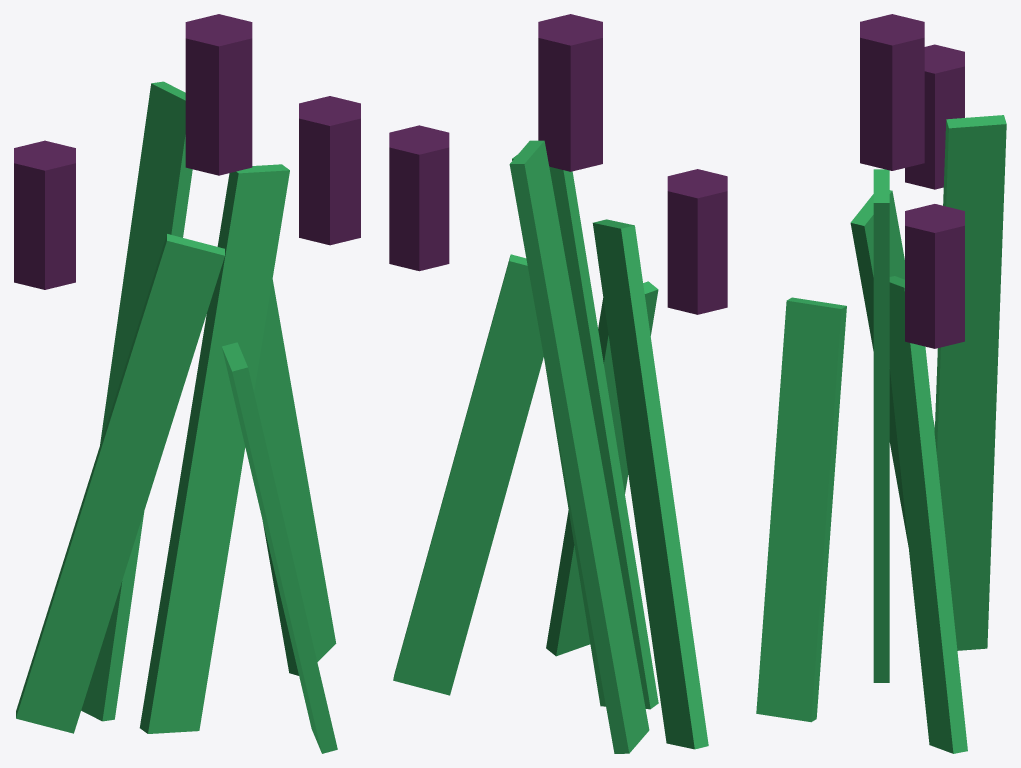
The model's file is reeds.glb.
3 views of the same model, side by side, from view 1: azimuth 30°, elevation 25°; view 2: azimuth 150°, elevation 25°; view 3: azimuth 270°, elevation 25° (orthographic). The views are drawn at different scales.
Visible parts, largest first — view 1: B0, B2, B4, B1, T0, B3, T2, T1; view 2: B1, B4, B2, B0, T0, T1, T2, B3; view 3: B4, B3, B1, T0, B0, T1, T2, B2.
Boxes of the visible parts, x1,y1,x2,y2 form: B0: (139, 164, 289, 733); B2: (16, 234, 224, 733); B4: (81, 81, 192, 721); B1: (254, 279, 336, 675); T0: (185, 14, 252, 175); B3: (221, 342, 337, 753); T2: (14, 140, 75, 289); T1: (299, 96, 360, 245); B1: (393, 254, 543, 695); B4: (509, 140, 649, 753); B2: (592, 219, 708, 749); B0: (512, 154, 658, 709); T0: (538, 14, 602, 171); T1: (389, 125, 449, 271); T2: (667, 169, 727, 314); B3: (546, 281, 658, 656); B4: (934, 115, 1006, 650); B3: (756, 297, 846, 722); B1: (889, 276, 967, 753); T0: (860, 14, 924, 170); B0: (873, 169, 889, 682); T1: (905, 204, 964, 348); T2: (905, 44, 964, 189); B2: (850, 190, 934, 546).
Bounding box in the file's own units: 0.73 × 1.38 × 0.47.
